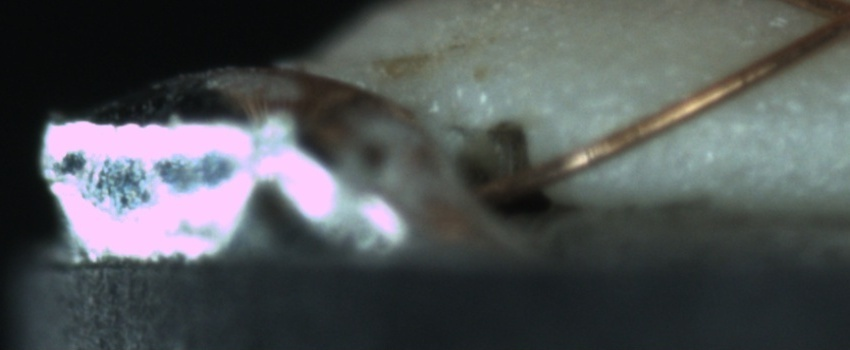CL: (809, 1, 850, 42)
